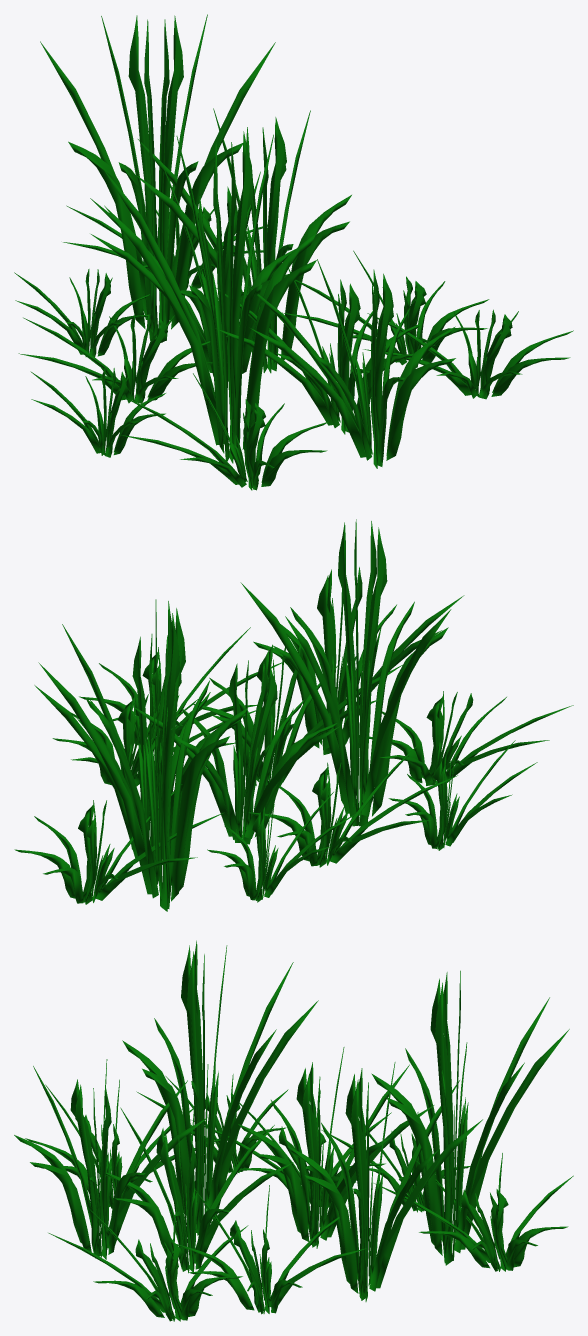
The model's file is grass.fbx.
3 views of the same model, one above another, from view 1: azimuth 30°, elevation 25°; view 2: azimuth 150°, elevation 25°; view 3: azimuth 270°, elevation 25° (orthographic). The views are drawn at different scales.
Parts seen in each view (by area): view 1: Plane.005; view 2: Plane.005; view 3: Plane.005.
Part boxes in pixels (left/top/right/bottom): Plane.005: left=14, top=14, right=573, bottom=490; Plane.005: left=14, top=519, right=573, bottom=911; Plane.005: left=14, top=940, right=573, bottom=1321.
Size of the model in its own units: 98.21 by 63.88 by 110.
